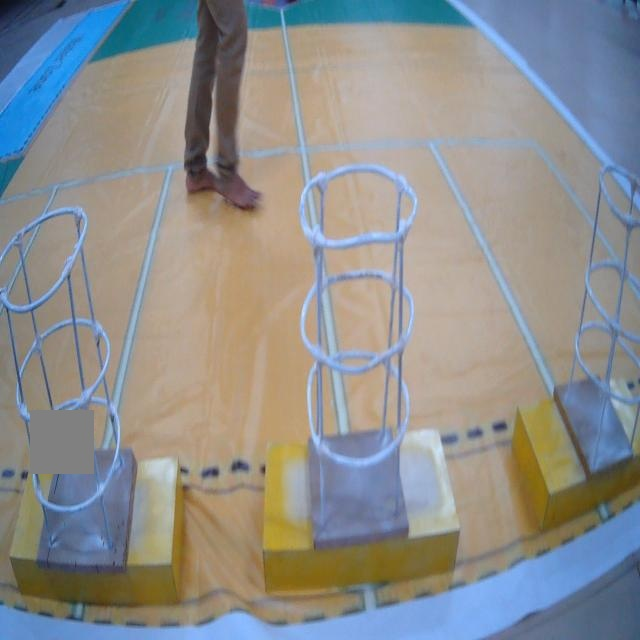silo: (285, 147, 431, 559), (0, 169, 132, 584), (554, 133, 640, 498)
